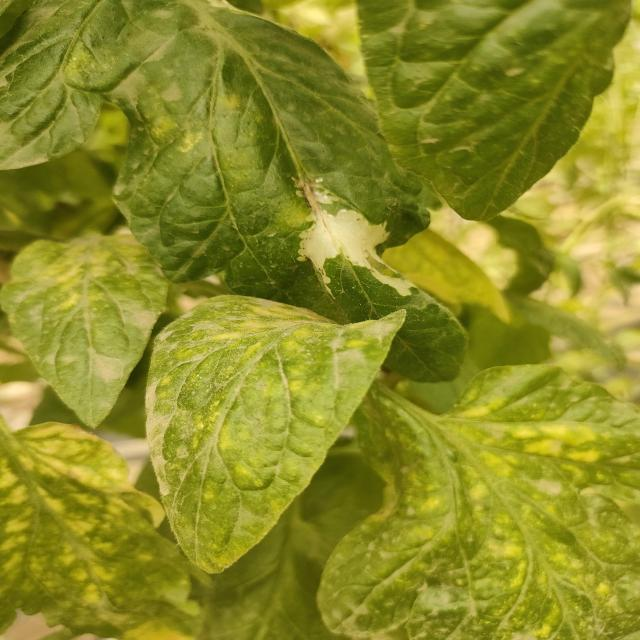Tuta absoluta: (290, 186, 423, 297)
